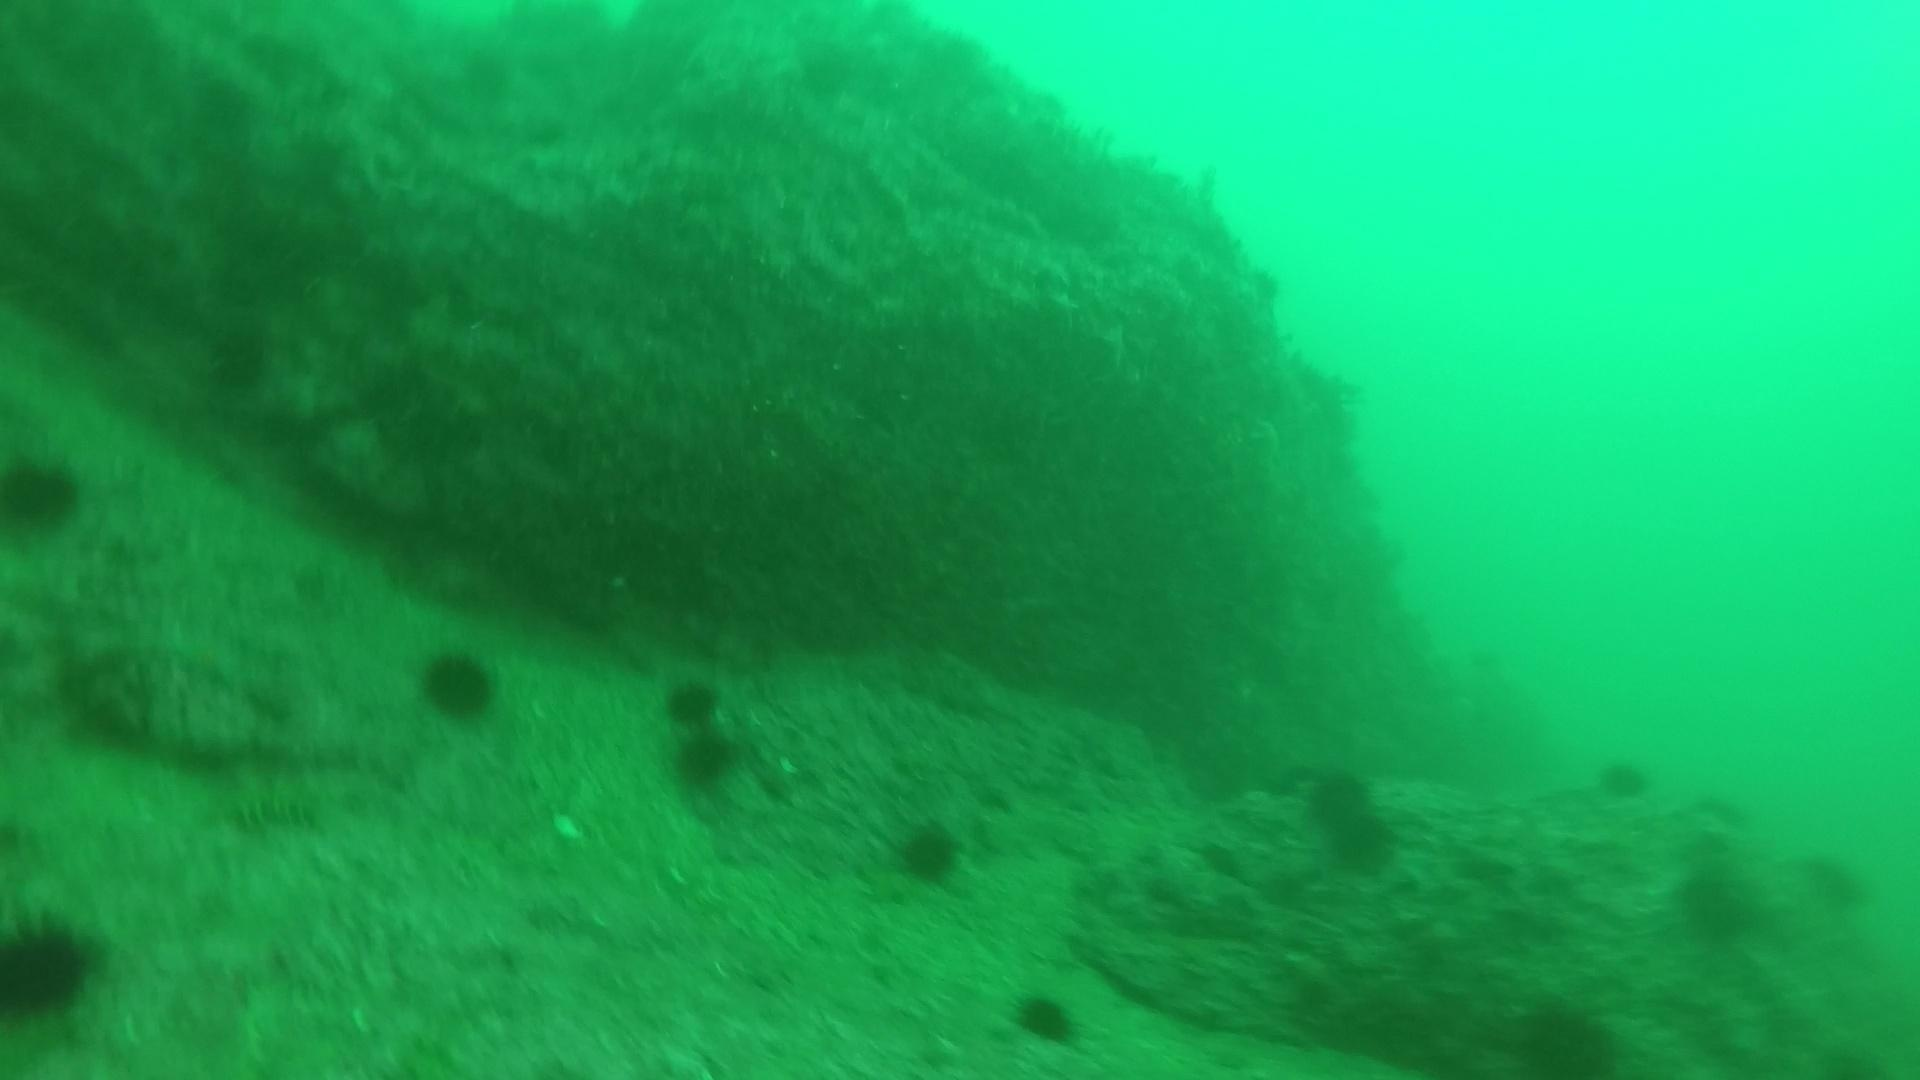echinus: (1, 905, 107, 1025), (1509, 996, 1625, 1076), (1669, 856, 1764, 945), (1, 444, 88, 539), (411, 641, 505, 727), (666, 721, 752, 803), (887, 814, 971, 890), (1320, 802, 1396, 884), (1296, 752, 1373, 833), (1005, 984, 1087, 1052), (1799, 847, 1874, 914), (655, 670, 729, 735), (1592, 750, 1656, 804)
holothurian: (207, 781, 355, 837)
